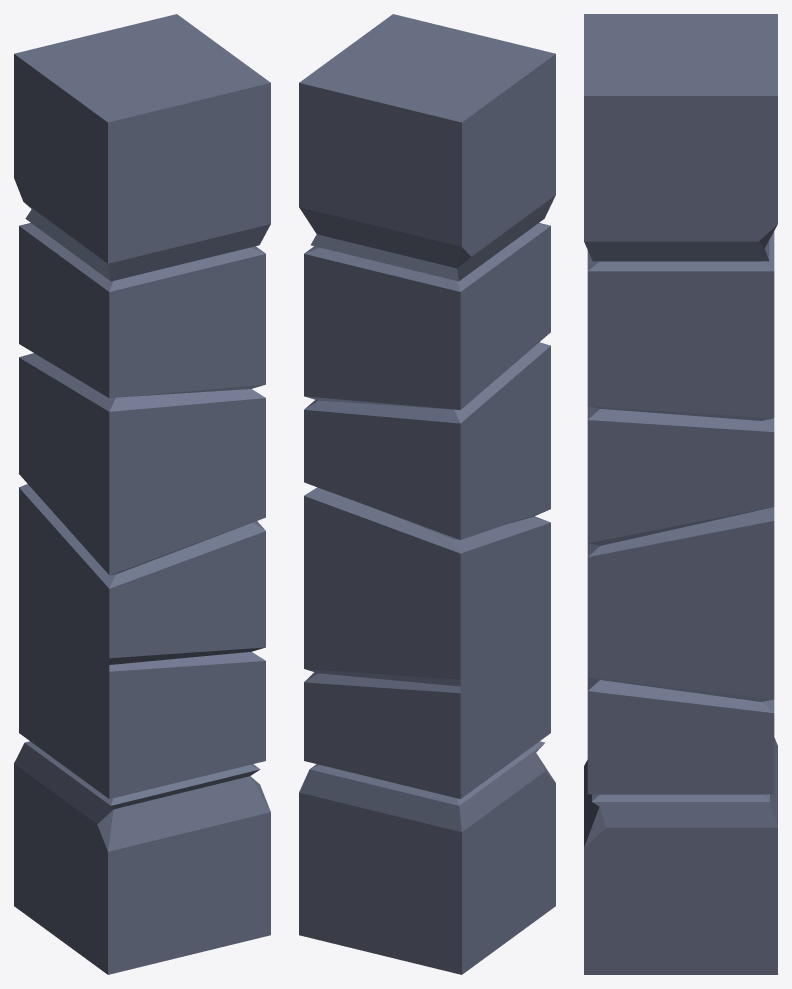
The model's file is Piller_Stone01.fbx.
The picture shows the model from 3 angles, left to right: view 1: azimuth 30°, elevation 25°; view 2: azimuth 150°, elevation 25°; view 3: azimuth 270°, elevation 25°; orthographic projection. The views are drawn at different scales.
Parts seen in each view (by area): view 1: Piller_Stone01; view 2: Piller_Stone01; view 3: Piller_Stone01.
Part boxes in pixels (<box>): Piller_Stone01: <box>14,14,270,974</box>; Piller_Stone01: <box>299,14,555,974</box>; Piller_Stone01: <box>584,14,777,974</box>.
Bounding box in the file's own units: 0.4 × 2 × 0.4.
